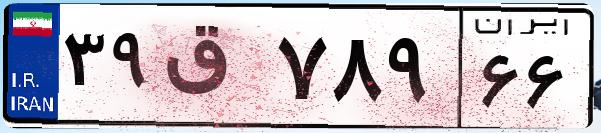3: (57, 26, 110, 100)
6: (475, 38, 525, 113), (525, 38, 570, 115)
7: (270, 28, 330, 110)
8: (330, 28, 385, 110)
9: (385, 28, 445, 110), (110, 28, 158, 98)
ق: (158, 20, 270, 120)
